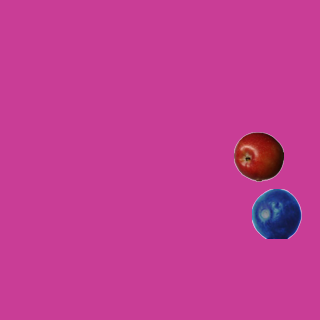Apple Braeburn: (233, 131, 283, 181)
Huckleberry: (251, 188, 301, 238)
